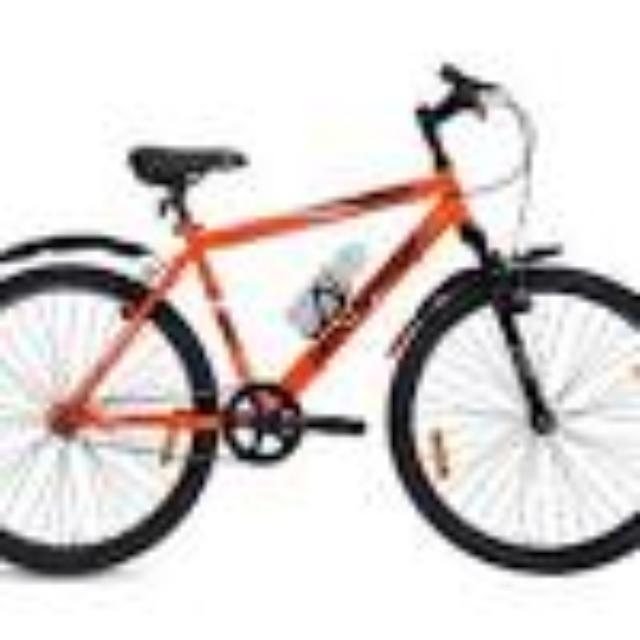obstacle: (2, 12, 640, 596)
